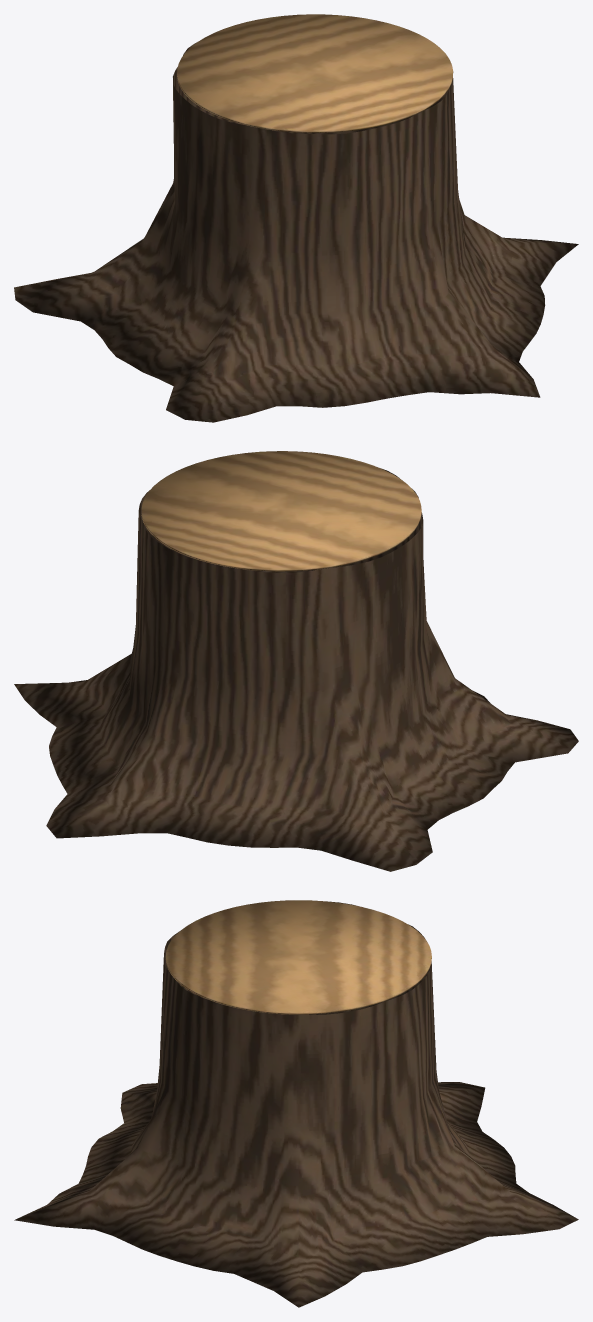
File: oak.glb
3 renders of one model, top to bottom at view 1: azimuth 30°, elevation 25°; view 2: azimuth 150°, elevation 25°; view 3: azimuth 270°, elevation 25°, orthographic. The views are drawn at different scales.
Parts seen in each view (by area): view 1: bark, endgrain; view 2: bark, endgrain; view 3: bark, endgrain.
Part boxes in pixels (x1,y1,x2,y2): bark: (14, 42, 578, 422); endgrain: (177, 14, 453, 132); bark: (14, 468, 578, 871); endgrain: (141, 451, 421, 571); bark: (14, 901, 578, 1307); endgrain: (165, 900, 431, 1014).
Size of the model in its own units: 0.9673 by 0.456 by 1.02.
2 materials, 2 textured.
